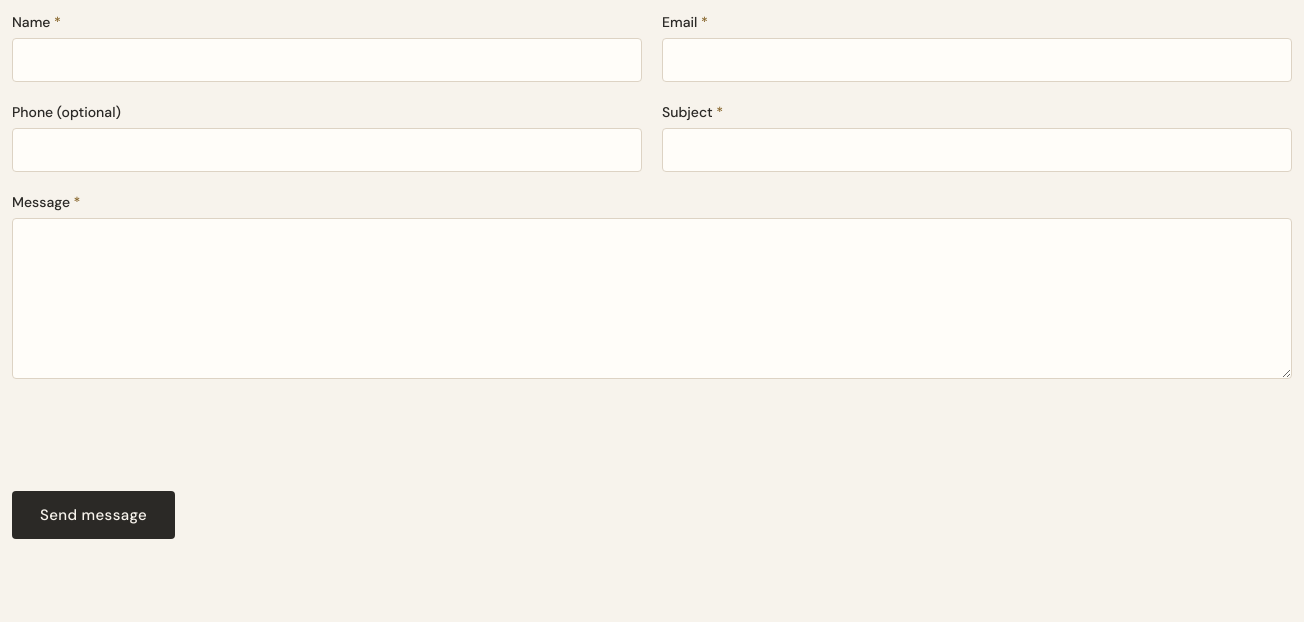
Scenario: ContactForm › shows validation errors and does not submit an empty form
The image size is (1304, 622).
Click the button "Send message" at {"x": 94, "y": 515}, box [12,491,175,539]
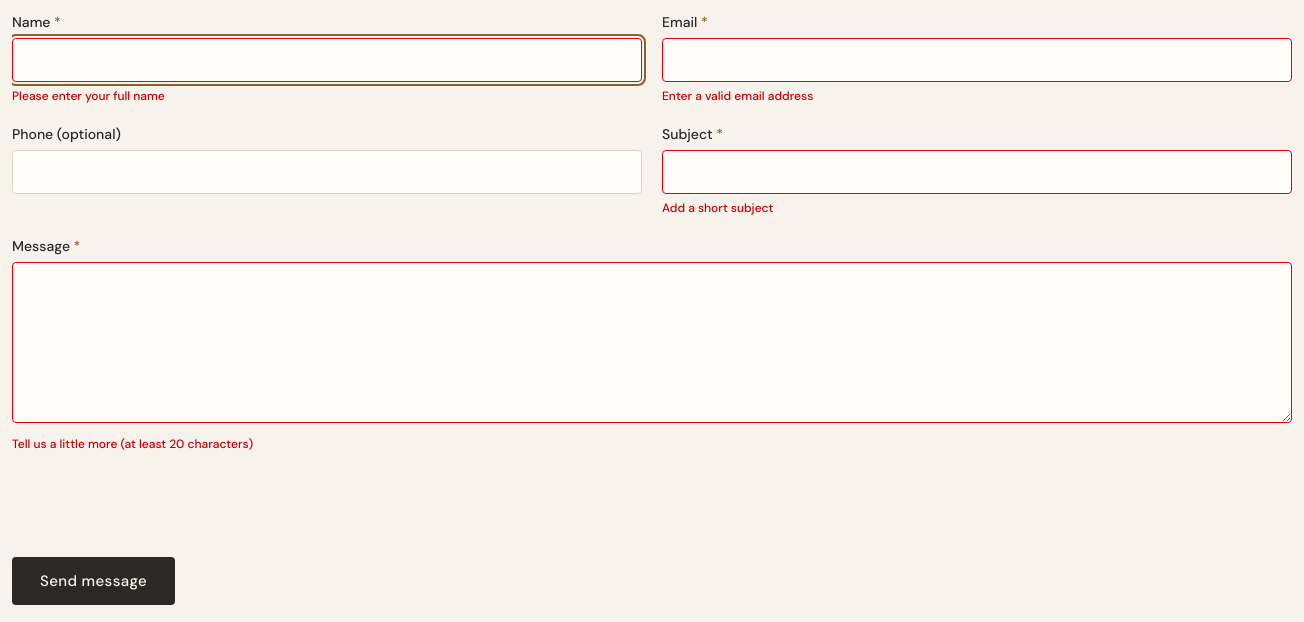
Expected: the text "Please enter your full name" is shown, [12,88,165,104]
Expected: the text "Enter a valid email address" is shown, [662,88,813,104]
Expected: the text "Tell us a little more (at least 20 characters)" is shown, [12,436,253,452]
